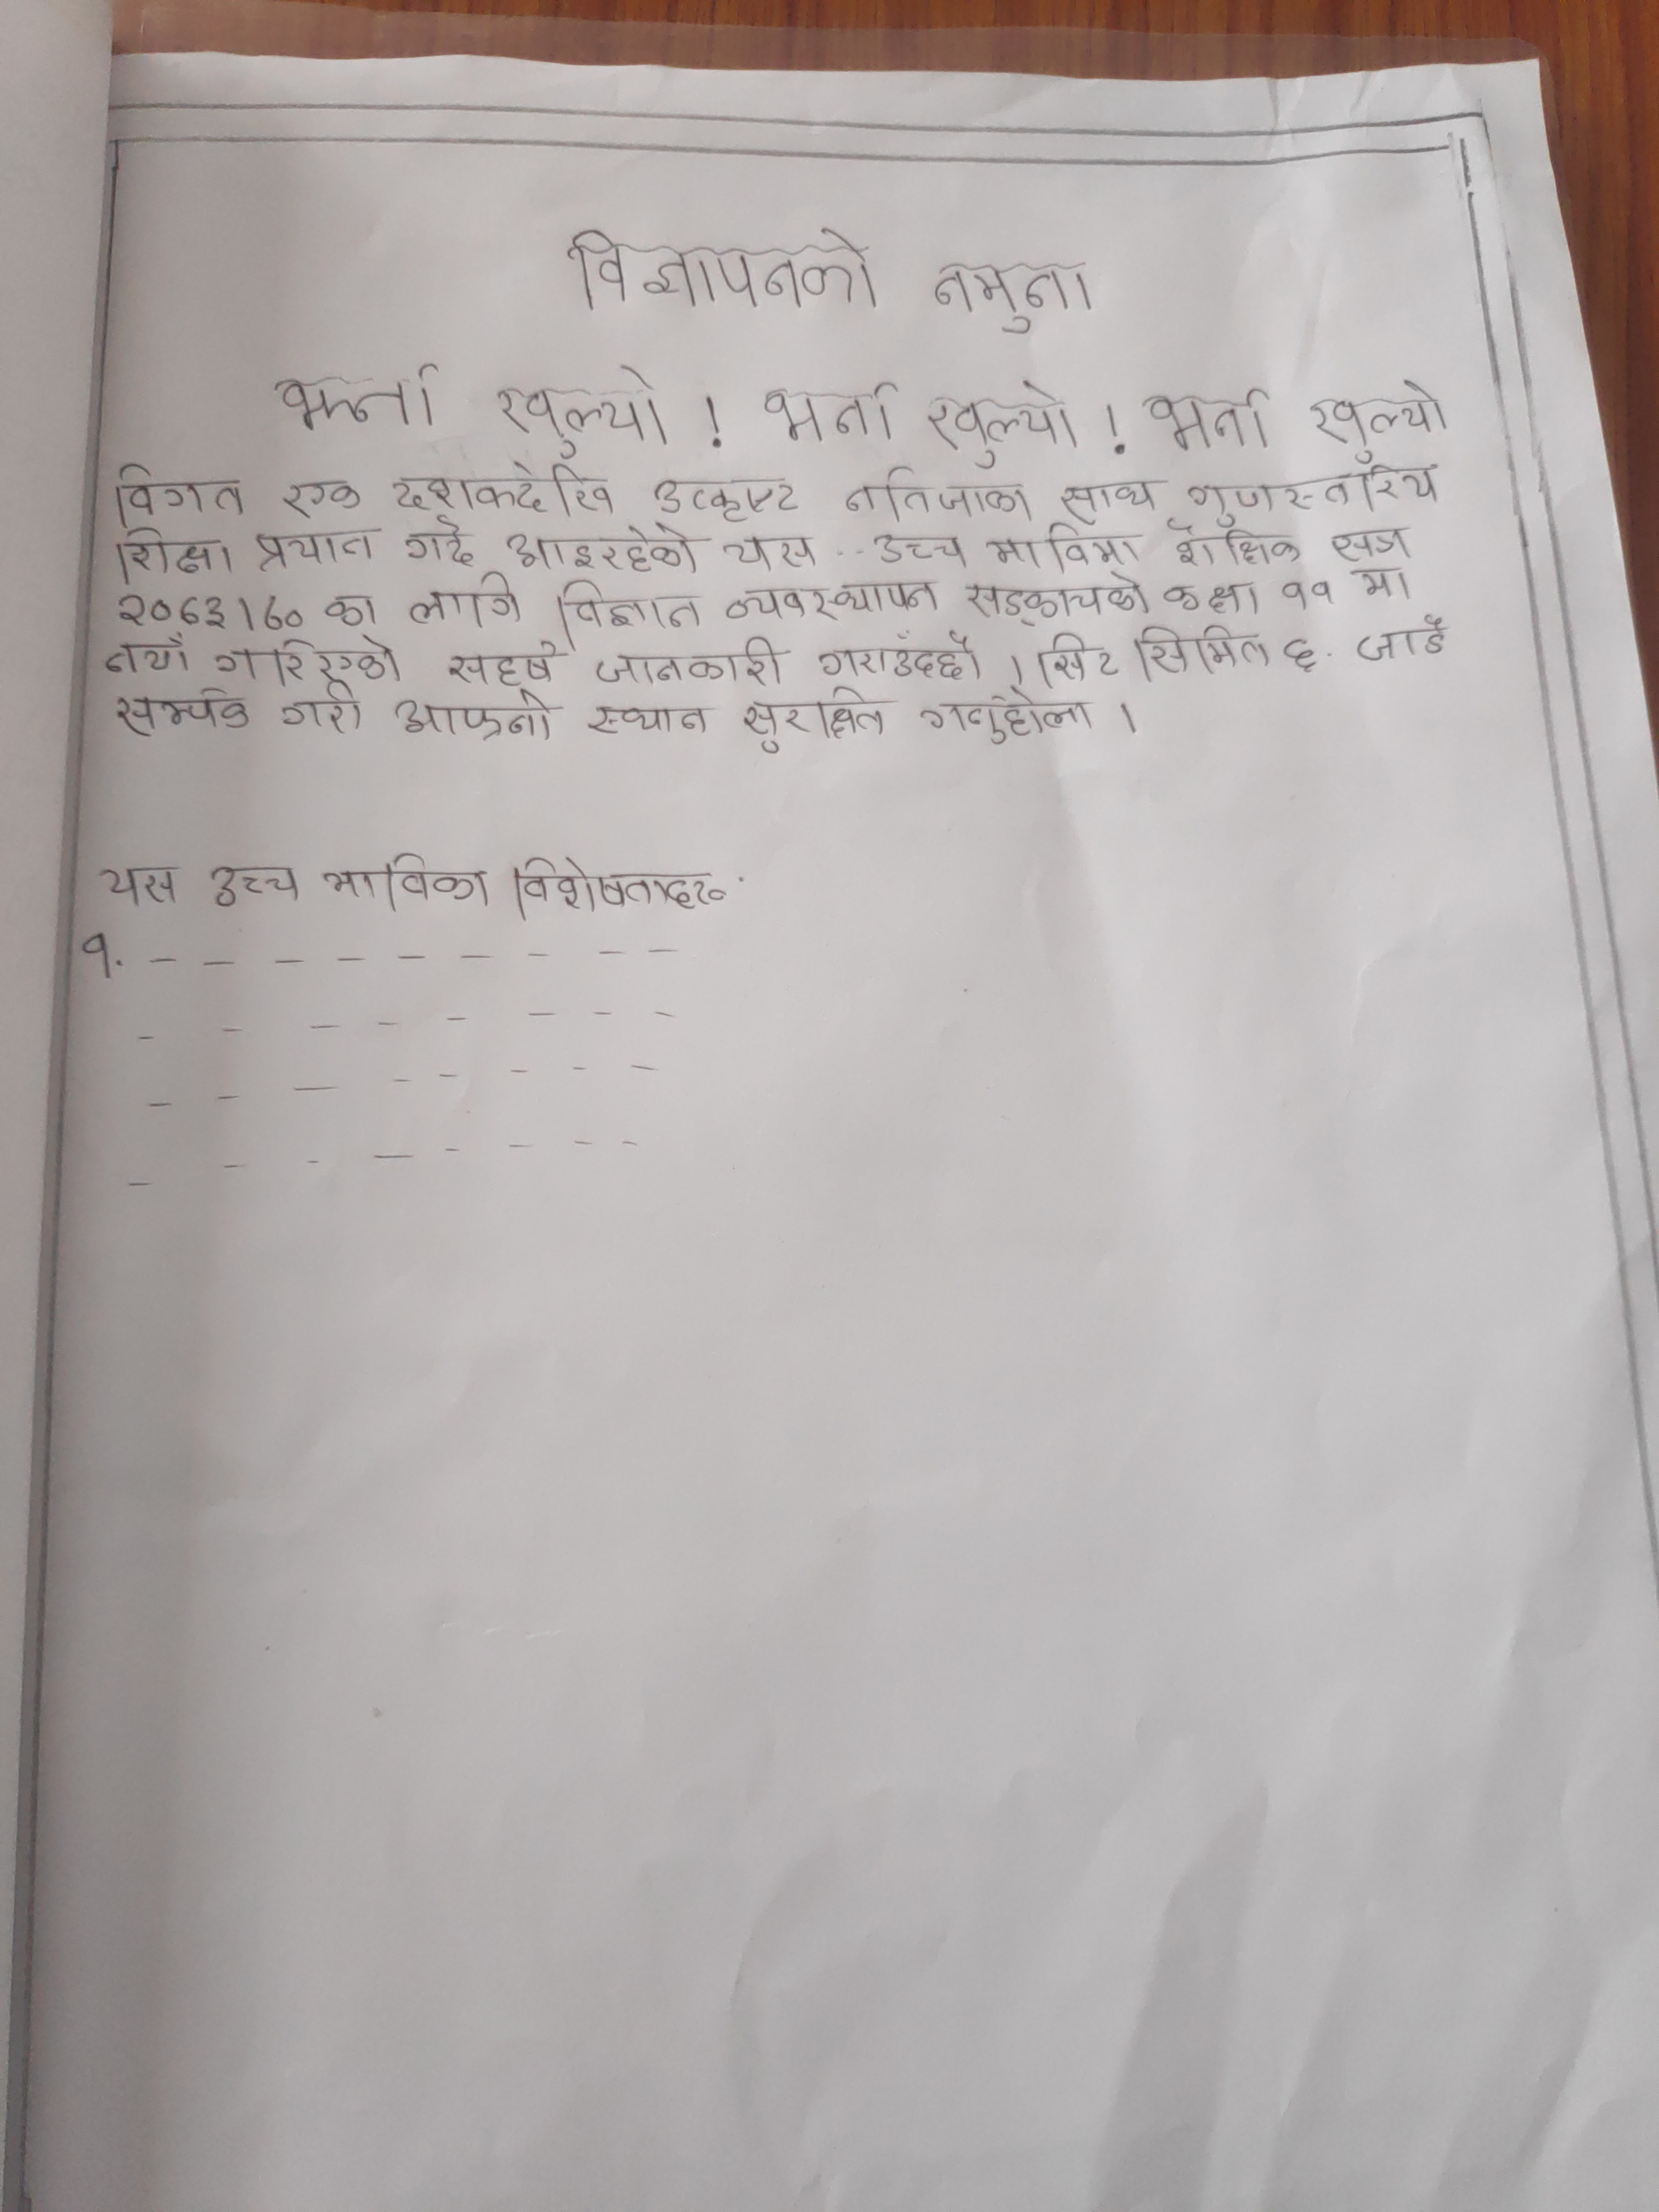text: (568, 221, 884, 319), (495, 362, 673, 458), (1183, 463, 1446, 526), (922, 380, 1084, 469), (509, 855, 728, 916), (927, 258, 1094, 336), (272, 359, 444, 434), (390, 460, 622, 516), (720, 573, 939, 629), (509, 516, 699, 578), (1307, 380, 1452, 462), (741, 685, 892, 756), (845, 465, 1033, 521), (587, 637, 788, 690), (394, 686, 558, 749), (319, 853, 490, 913), (960, 571, 1154, 624), (549, 575, 706, 637), (816, 631, 983, 688), (760, 381, 904, 448), (209, 637, 404, 686), (1134, 618, 1276, 685), (915, 693, 1100, 744), (110, 524, 242, 590), (112, 589, 310, 632), (110, 462, 246, 523), (988, 521, 1143, 573), (1152, 388, 1274, 455), (110, 690, 253, 740), (648, 474, 802, 519), (408, 575, 528, 631), (1356, 613, 1455, 672), (251, 528, 380, 573), (1169, 529, 1302, 571), (1033, 631, 1129, 685), (1058, 472, 1159, 523), (443, 648, 559, 691), (204, 859, 303, 909), (279, 685, 368, 740), (580, 704, 708, 740), (864, 529, 974, 571), (723, 529, 821, 575), (1159, 578, 1263, 620), (96, 859, 183, 907), (105, 634, 192, 681), (406, 517, 476, 568), (1323, 528, 1420, 563), (275, 481, 366, 516), (317, 590, 380, 632), (1277, 571, 1333, 613), (1277, 634, 1326, 679), (1356, 566, 1417, 601)
